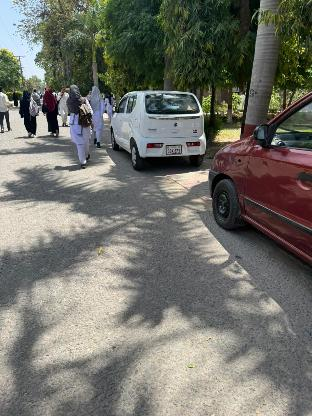car: (106, 88, 208, 168)
